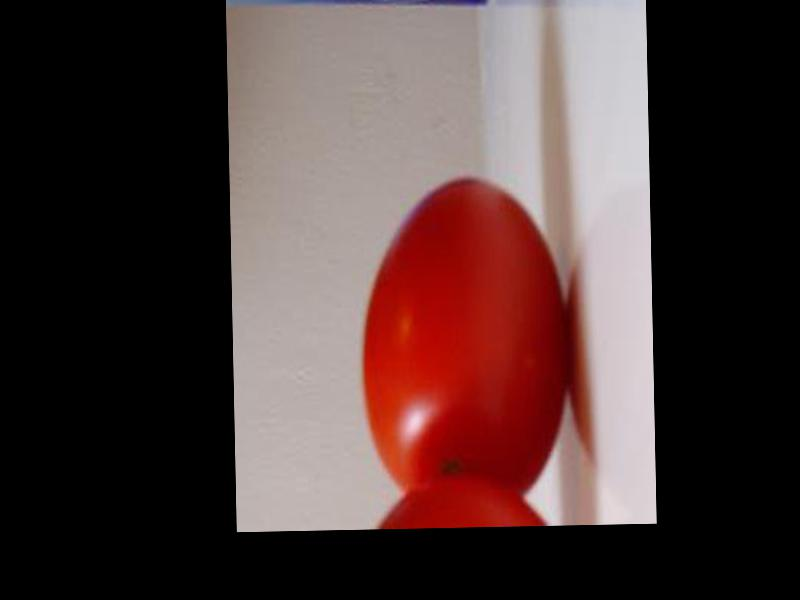Tomato: (360, 177, 572, 494)
